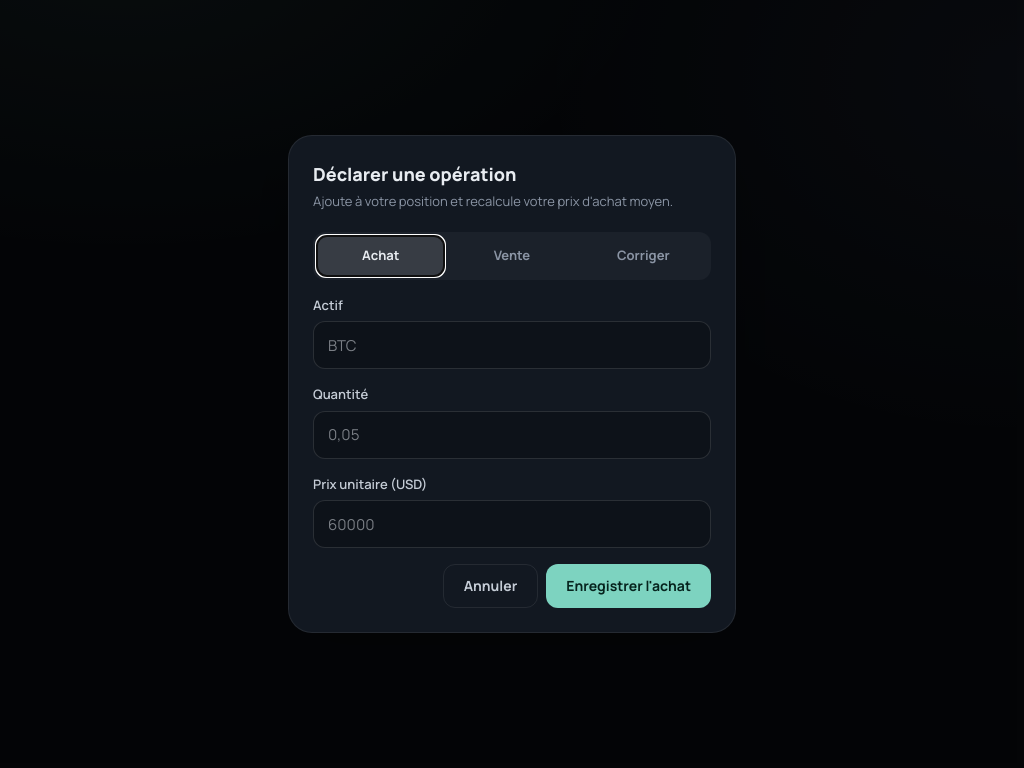
PositionDialog : validation avant envoi › champs vides : trois messages, aucun appel
Click the button "Enregistrer l'achat" at [629, 586], box [546,564,711,608]
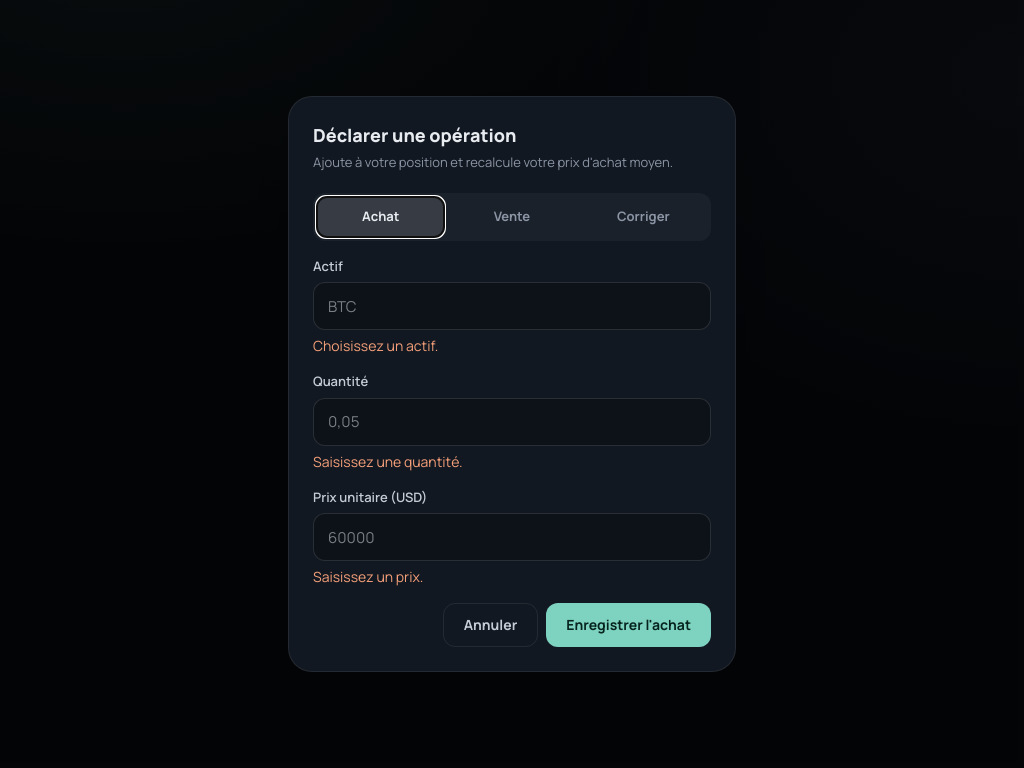
Expected: the text "Choisissez un actif." is shown, [313,336,438,355]
Expected: the text "Saisissez une quantité." is shown, [313,452,463,470]
Expected: the text "Saisissez un prix." is shown, [313,567,423,586]
